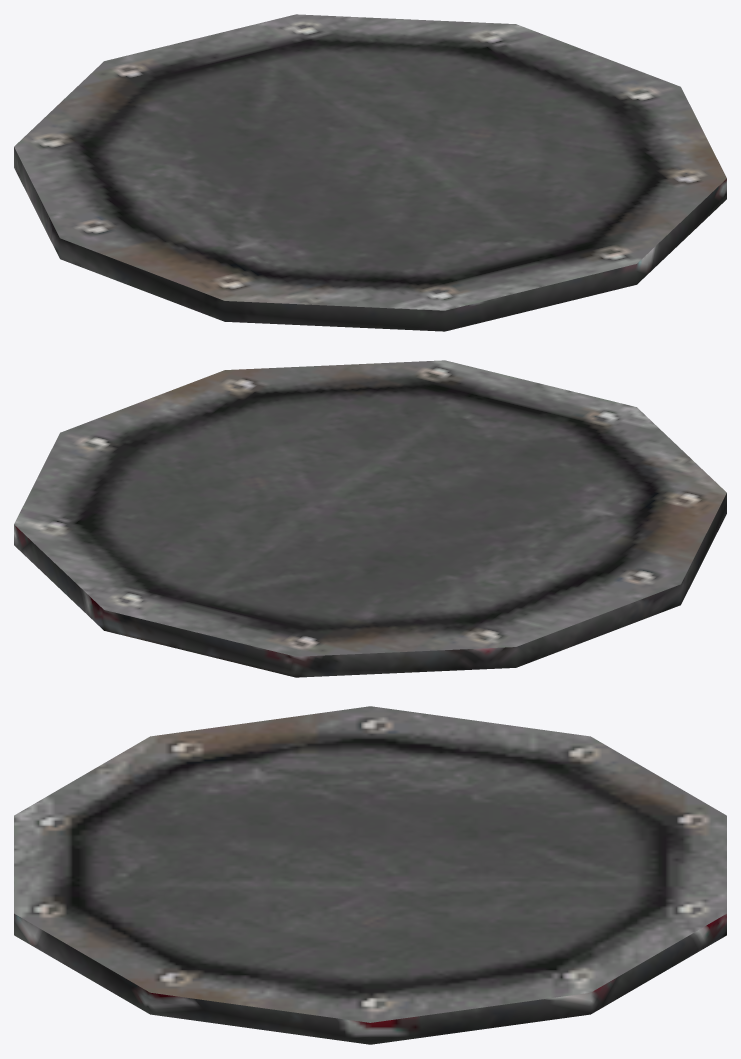
The model's file is msl.glb.
3 renders of one model, top to bottom at view 1: azimuth 30°, elevation 25°; view 2: azimuth 150°, elevation 25°; view 3: azimuth 270°, elevation 25°, orthographic. The views are drawn at different scales.
Parts seen in each view (by area): view 1: msl; view 2: msl; view 3: msl.
Part boxes in pixels (box(x1,y1,x2,y2)): msl: box(14, 14, 726, 331); msl: box(14, 360, 726, 677); msl: box(14, 706, 726, 1044).
Size of the model in its own units: 0.5224 by 0.0786 by 0.4968.
Materials: 1 (1 with a texture image).
